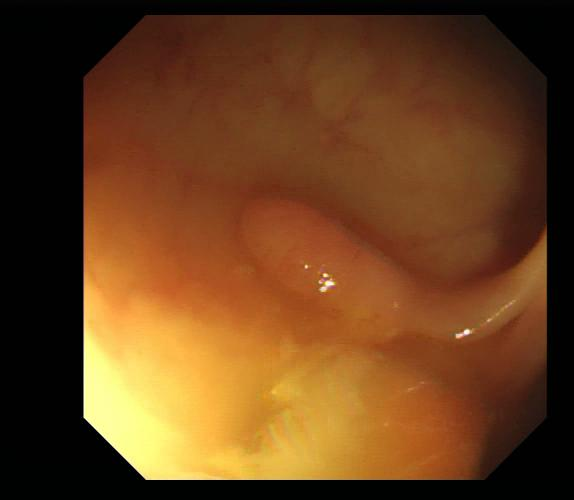polyp: (238, 194, 544, 352)
